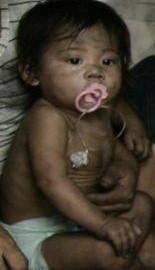Stunting: (20, 6, 148, 134)
